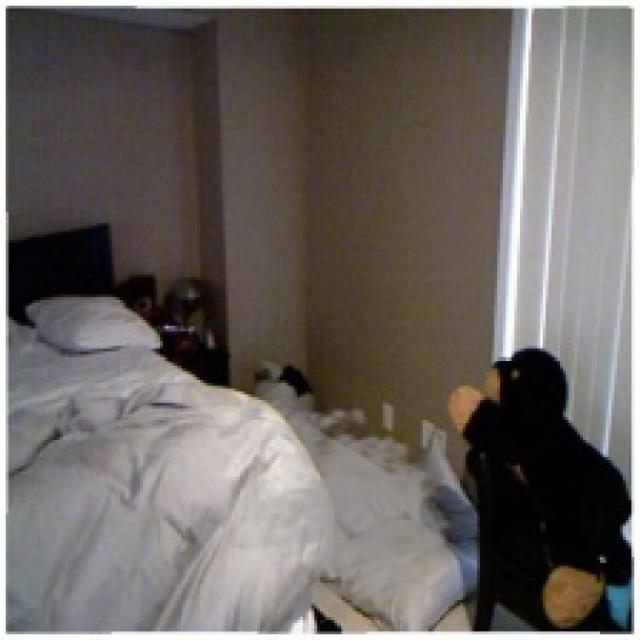Smoke: (200, 394, 460, 626)
